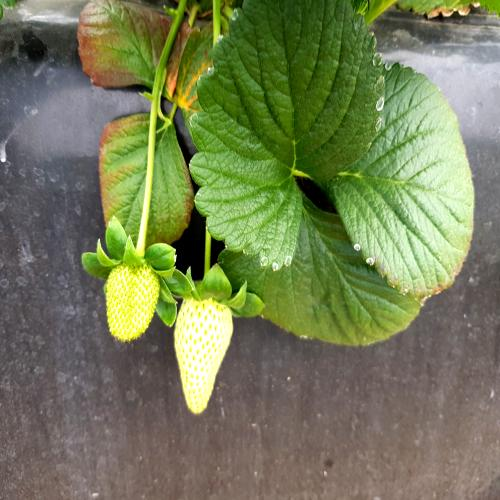unripe: (173, 277, 236, 423), (103, 250, 164, 346)
